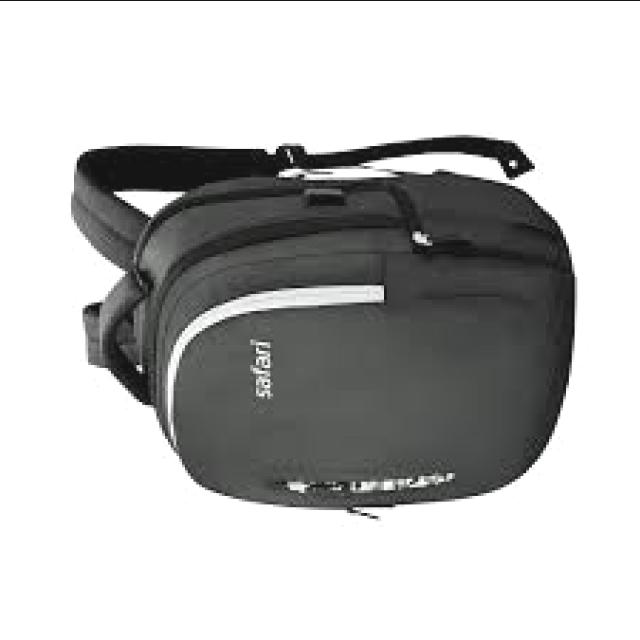backpack: (70, 135, 576, 522)
